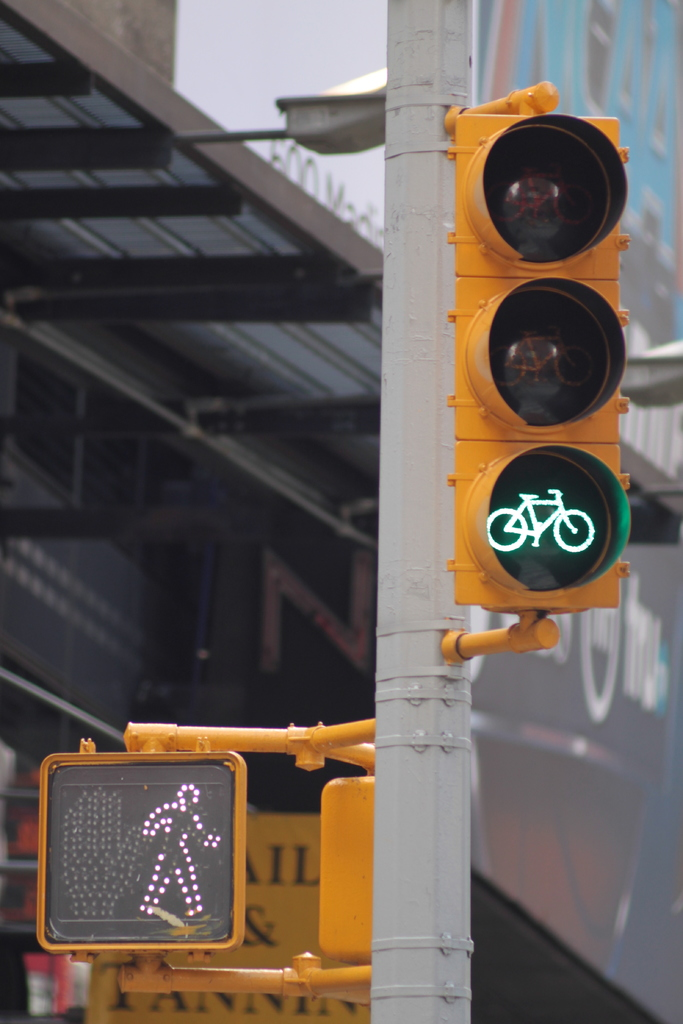cycle_route: (483, 464, 613, 583)
pedestrian_crossing_ahead: (134, 780, 228, 922)
